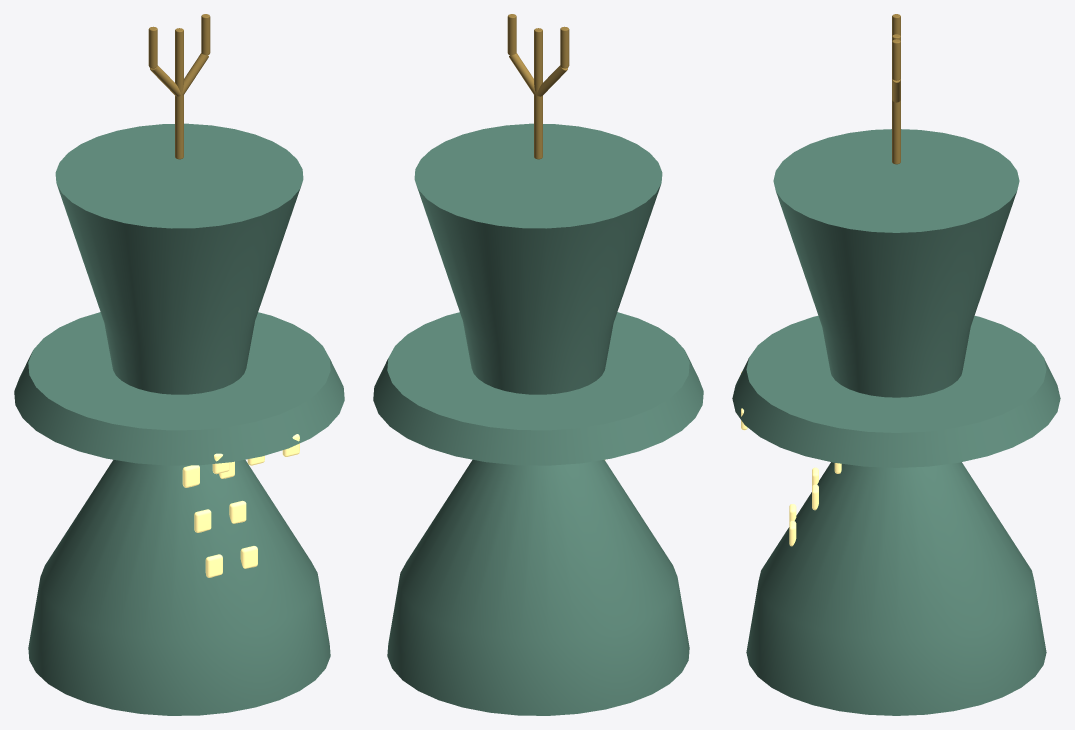
3 renders of one model, left to right at view 1: azimuth 30°, elevation 25°; view 2: azimuth 150°, elevation 25°; view 3: azimuth 270°, elevation 25°, orthographic.
Parts seen in each view (by area): view 1: Flared spindle column, Spindle saucer platform, Aerial stem; view 2: Flared spindle column, Spindle saucer platform, Aerial stem; view 3: Flared spindle column, Spindle saucer platform, Aerial stem.
Part boxes in pixels (x1,y1,x2,y2): Flared spindle column: (28, 123, 330, 715); Spindle saucer platform: (14, 312, 344, 465); Aerial stem: (175, 28, 183, 159); Flared spindle column: (387, 123, 689, 715); Spindle saucer platform: (373, 312, 703, 465); Aerial stem: (534, 28, 542, 159); Flared spindle column: (746, 129, 1046, 715); Spindle saucer platform: (732, 315, 1060, 467); Aerial stem: (892, 34, 900, 164).
Bounding box in the file's own units: 1.64 × 3.44 × 1.64.
